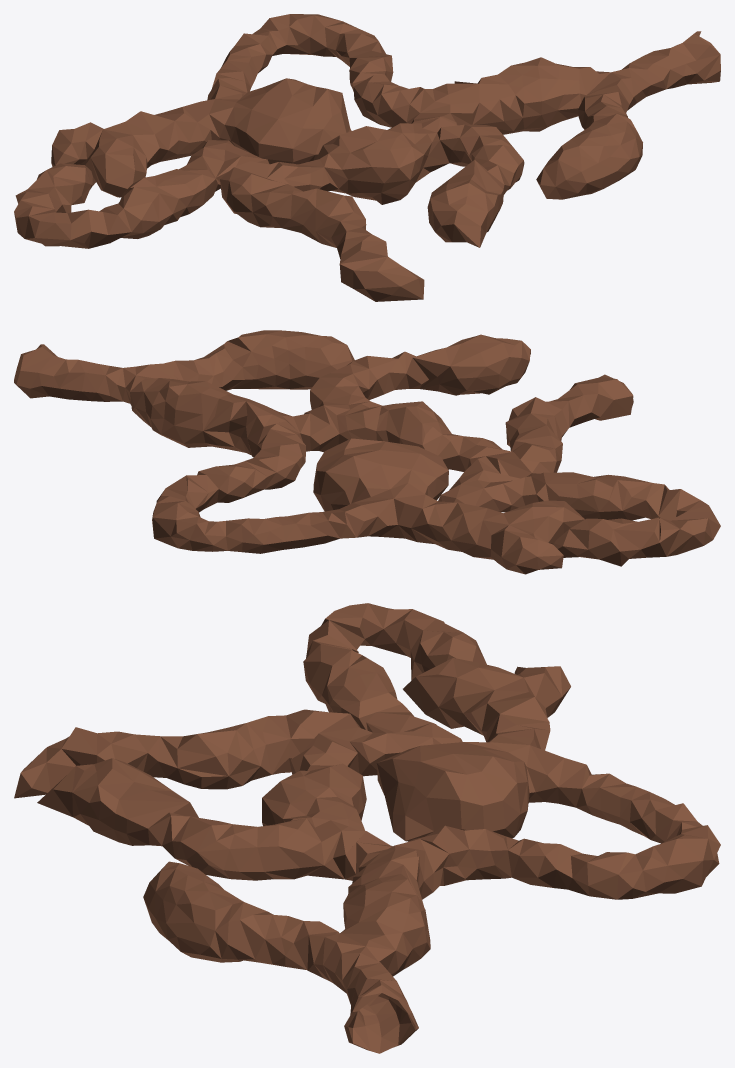
File: BigCaveFinalFixed.fbx
The picture shows the model from 3 angles, top to bottom: view 1: azimuth 30°, elevation 25°; view 2: azimuth 150°, elevation 25°; view 3: azimuth 270°, elevation 25°; orthographic projection. The views are drawn at different scales.
Parts seen in each view (by area): view 1: ExactCave; view 2: ExactCave; view 3: ExactCave.
Part boxes in pixels (x1,y1,x2,y2): ExactCave: [14, 14, 720, 301]; ExactCave: [14, 330, 720, 574]; ExactCave: [14, 603, 720, 1053].
Bounding box in the file's own units: 1618 × 169 × 1177.
